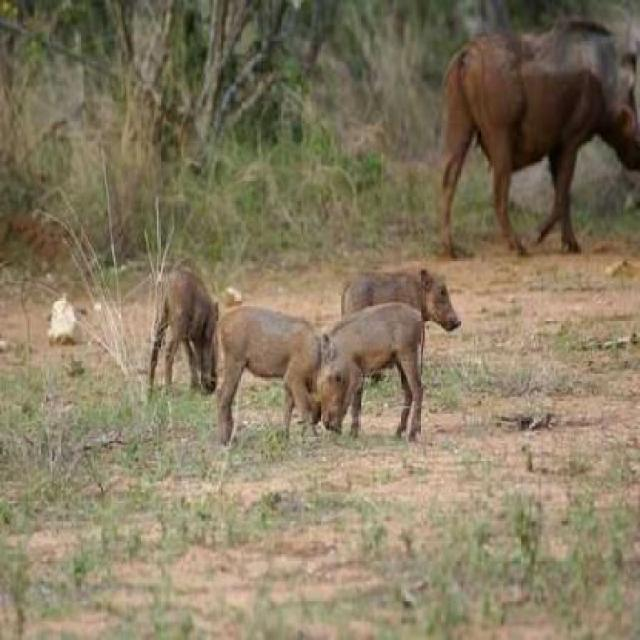pig: (230, 278, 348, 464), (337, 240, 497, 362)
